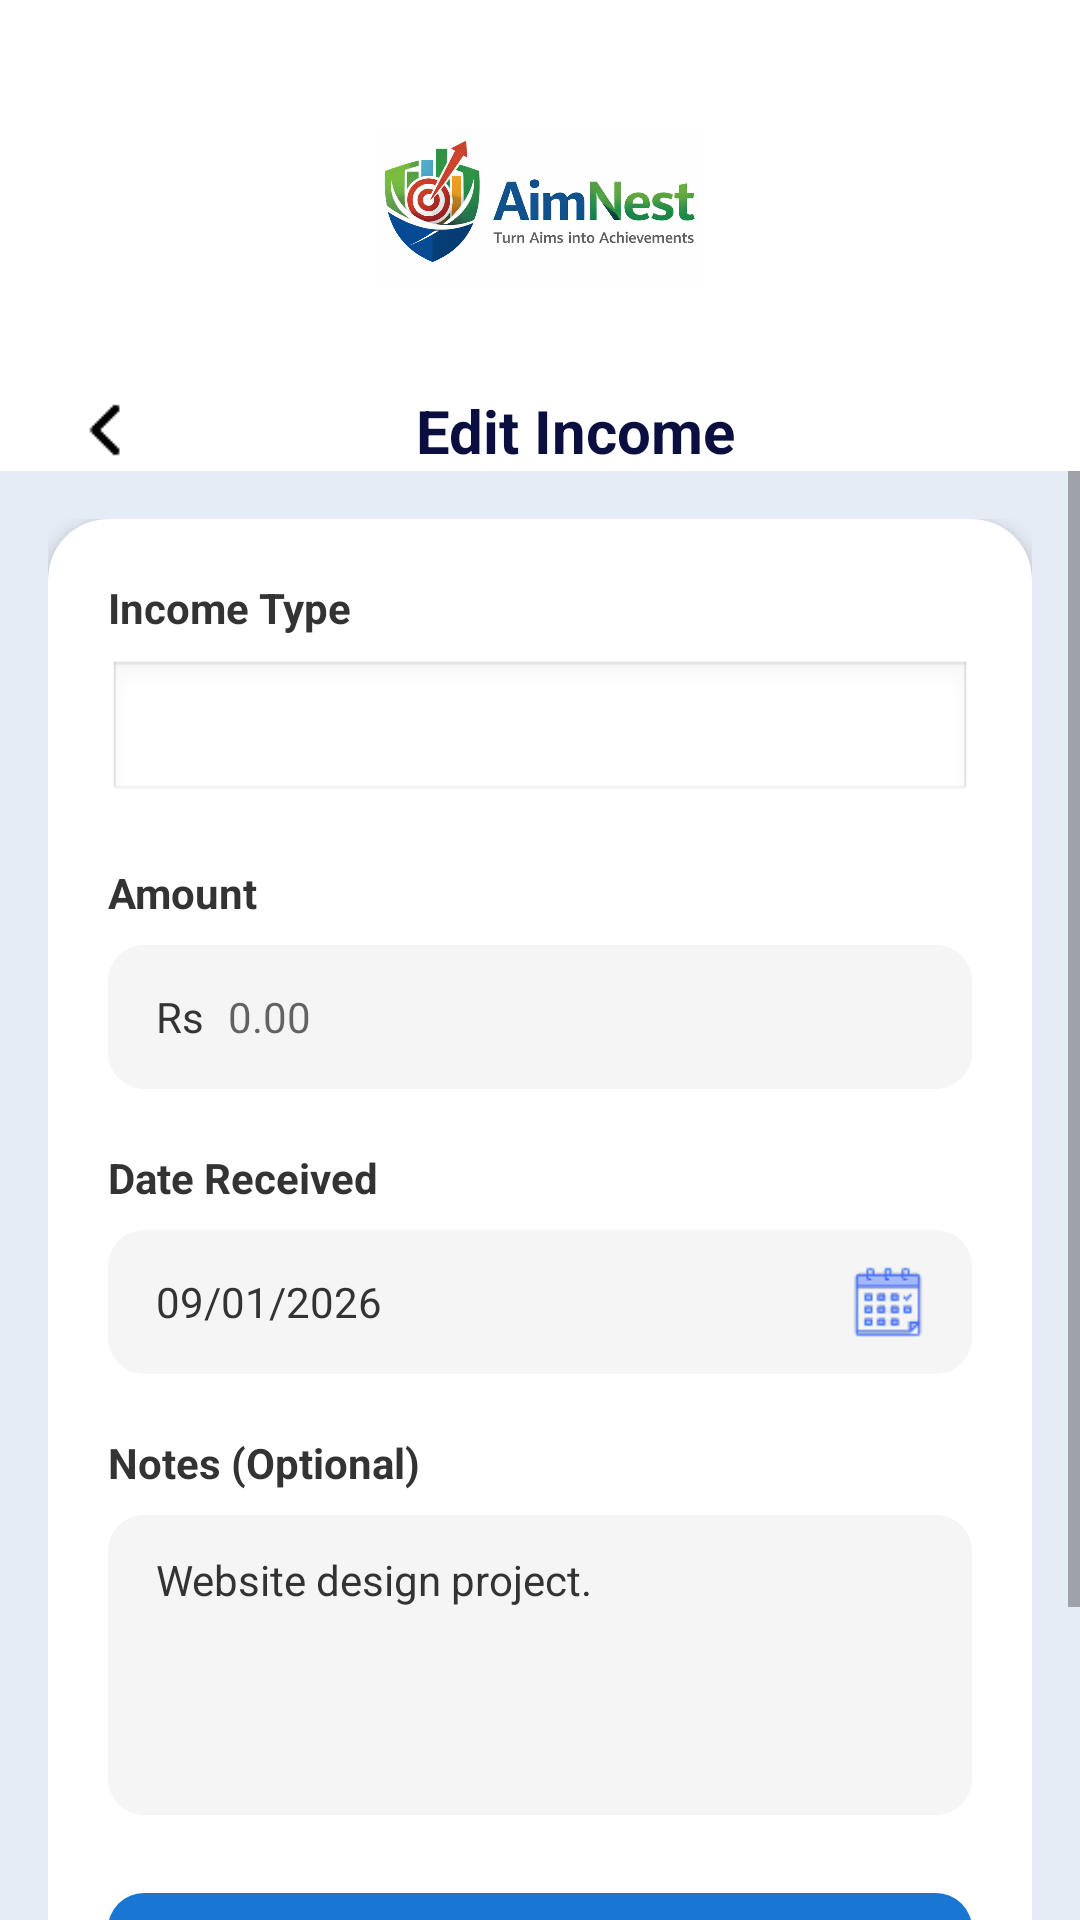

Icons on this 1080w x 1920h Android screen, each with the point to tap as (x=x, y=y):
Back: (x=104, y=430)
Calendar: (x=888, y=1302)
